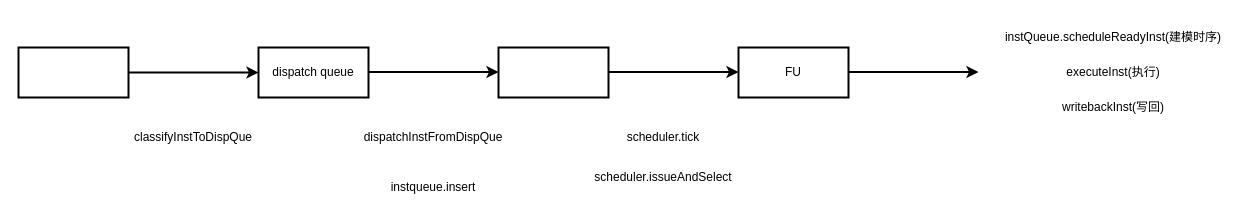
Some shapes in this 1255 by 224 pixel diagram are drawn without their labels. The box of each missing label's shape, as (x1, y1, x2, y2) in pixels:
issue queue: (497, 46, 609, 98)
Rename: (17, 46, 129, 98)
